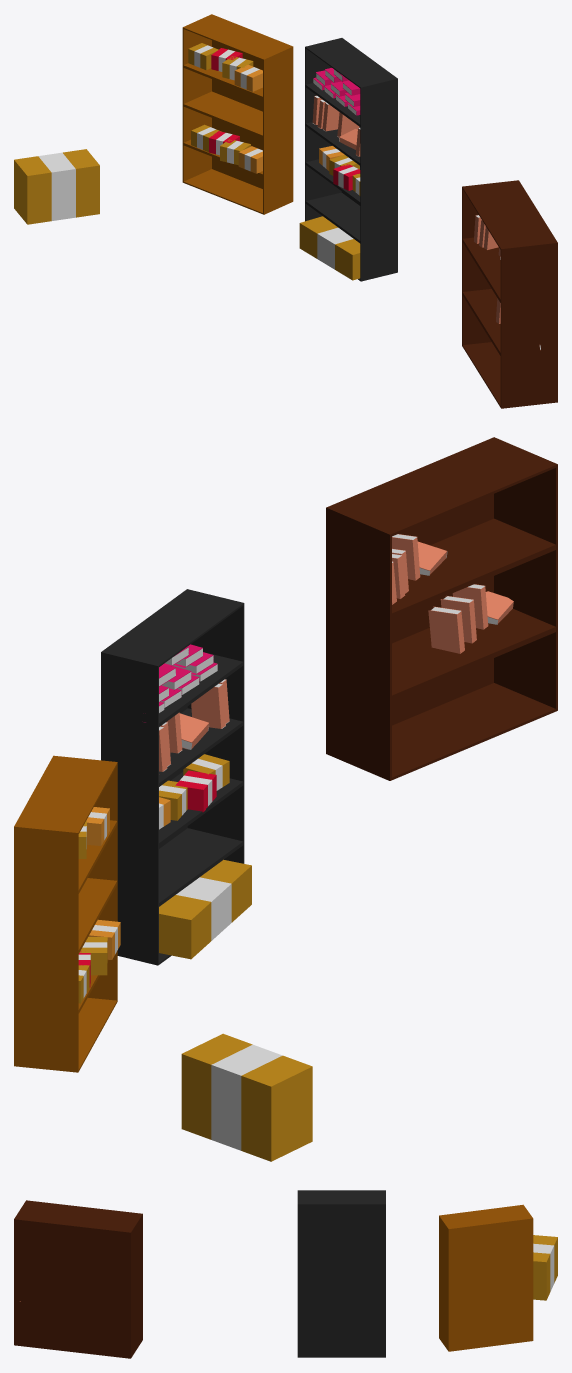
File: Collection4.fbx
The picture shows the model from 3 angles, top to bottom: view 1: azimuth 30°, elevation 25°; view 2: azimuth 150°, elevation 25°; view 3: azimuth 270°, elevation 25°; orthographic projection. The views are drawn at different scales.
Visible parts, largest first — view 1: Prateleira.002, Prateleira1, Prateleira2, caixas, Cube.057, caixas.017, Livros, caixas.003, caixas.006, caixas.007, caixas.009, caixas.014; view 2: Prateleira.002, Prateleira2, Prateleira1, caixas, caixas.017, Livros, Cube.057, caixas.014; view 3: Prateleira.002, Prateleira2, Prateleira1, caixas.
Boxes of the visible parts, bbox=[...] form: Prateleira.002: bbox=[462, 180, 557, 408]; Prateleira1: bbox=[182, 14, 293, 214]; Prateleira2: bbox=[305, 38, 397, 281]; caixas: bbox=[14, 149, 99, 224]; Cube.057: bbox=[312, 68, 360, 156]; caixas.017: bbox=[299, 216, 360, 280]; Livros: bbox=[474, 215, 540, 350]; caixas.003: bbox=[234, 65, 262, 91]; caixas.006: bbox=[188, 43, 218, 70]; caixas.007: bbox=[238, 146, 262, 173]; caixas.009: bbox=[220, 139, 250, 165]; caixas.014: bbox=[333, 164, 360, 190]; Prateleira.002: bbox=[326, 437, 557, 780]; Prateleira2: bbox=[101, 589, 244, 965]; Prateleira1: bbox=[14, 755, 117, 1072]; caixas: bbox=[181, 1033, 312, 1161]; caixas.017: bbox=[159, 859, 251, 959]; Livros: bbox=[392, 534, 513, 653]; Cube.057: bbox=[144, 644, 229, 771]; caixas.014: bbox=[175, 770, 216, 812]; Prateleira.002: bbox=[14, 1200, 142, 1358]; Prateleira2: bbox=[297, 1190, 385, 1357]; Prateleira1: bbox=[439, 1204, 533, 1351]; caixas: bbox=[533, 1235, 557, 1300].
Size of the model in its own units: 2885 by 2248 by 7126.
